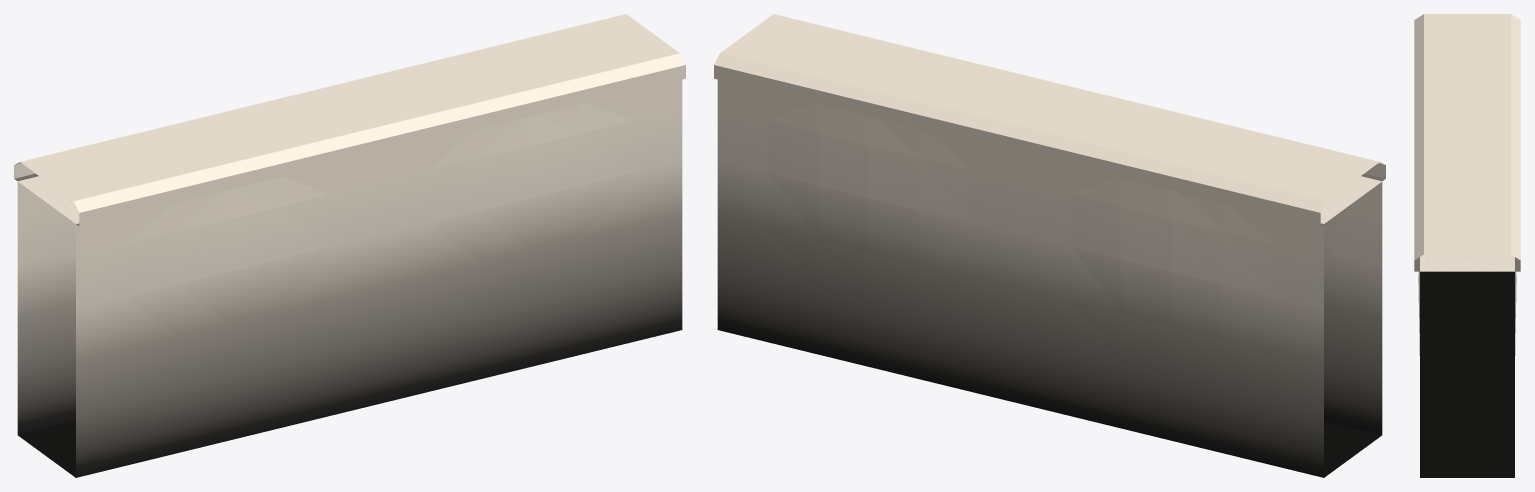
File: SM_VKI_Wall_Ashlar_Plain_300_Cut.fbx
The picture shows the model from 3 angles, left to right: view 1: azimuth 30°, elevation 25°; view 2: azimuth 150°, elevation 25°; view 3: azimuth 270°, elevation 25°; orthographic projection. The views are drawn at different scales.
Parts seen in each view (by area): view 1: SM_VKI_Wall_Ashlar_Plain_300_Cut.001; view 2: SM_VKI_Wall_Ashlar_Plain_300_Cut.001; view 3: SM_VKI_Wall_Ashlar_Plain_300_Cut.001.
Part boxes in pixels (box(x1,y1,x2,y2)): SM_VKI_Wall_Ashlar_Plain_300_Cut.001: box(14, 14, 685, 477); SM_VKI_Wall_Ashlar_Plain_300_Cut.001: box(714, 14, 1385, 477); SM_VKI_Wall_Ashlar_Plain_300_Cut.001: box(1414, 14, 1520, 477).
Size of the model in its own units: 3 by 1.3 by 0.56.
